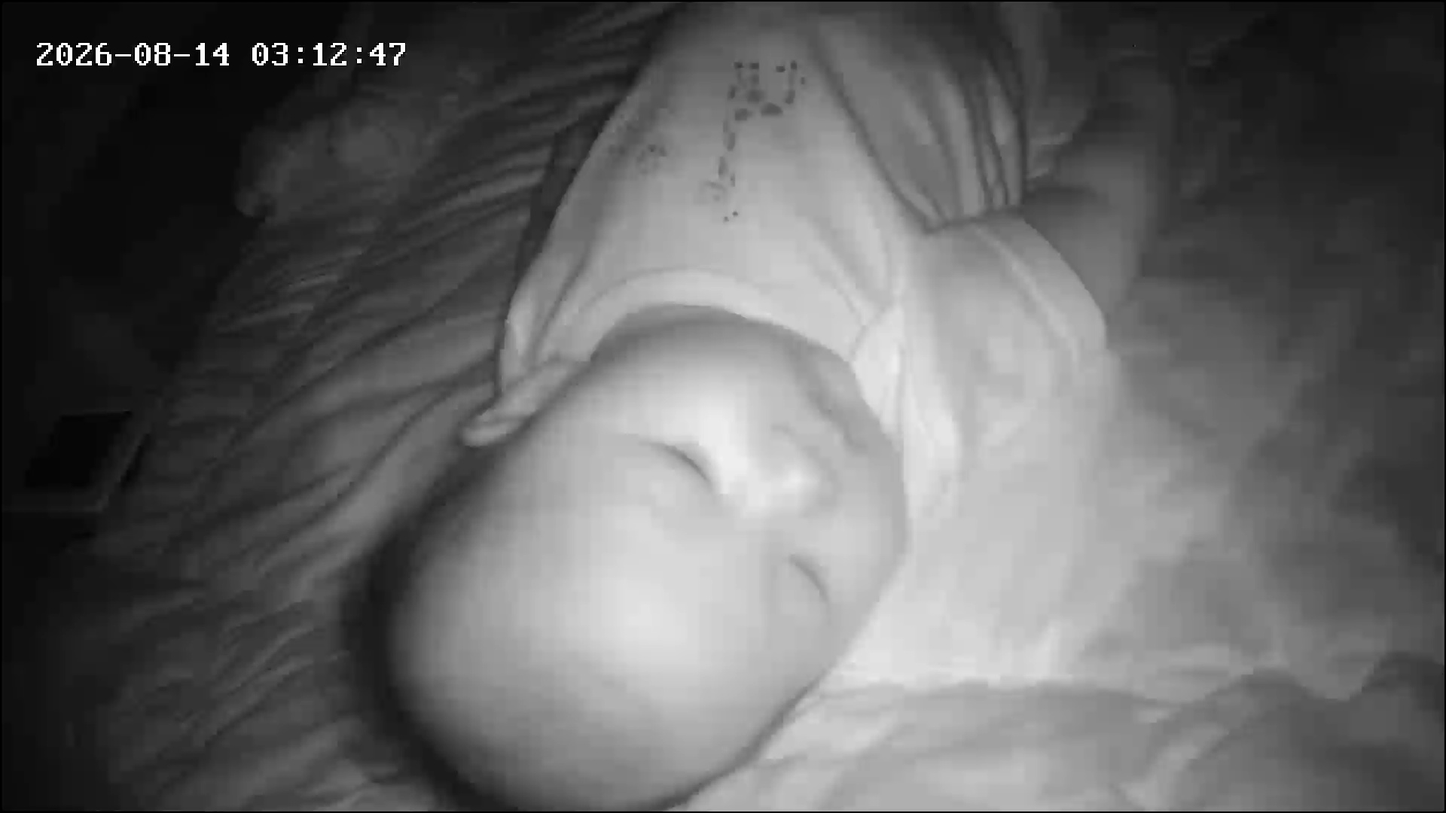baby: (346, 1, 1196, 809)
baby_face: (342, 297, 930, 810)
